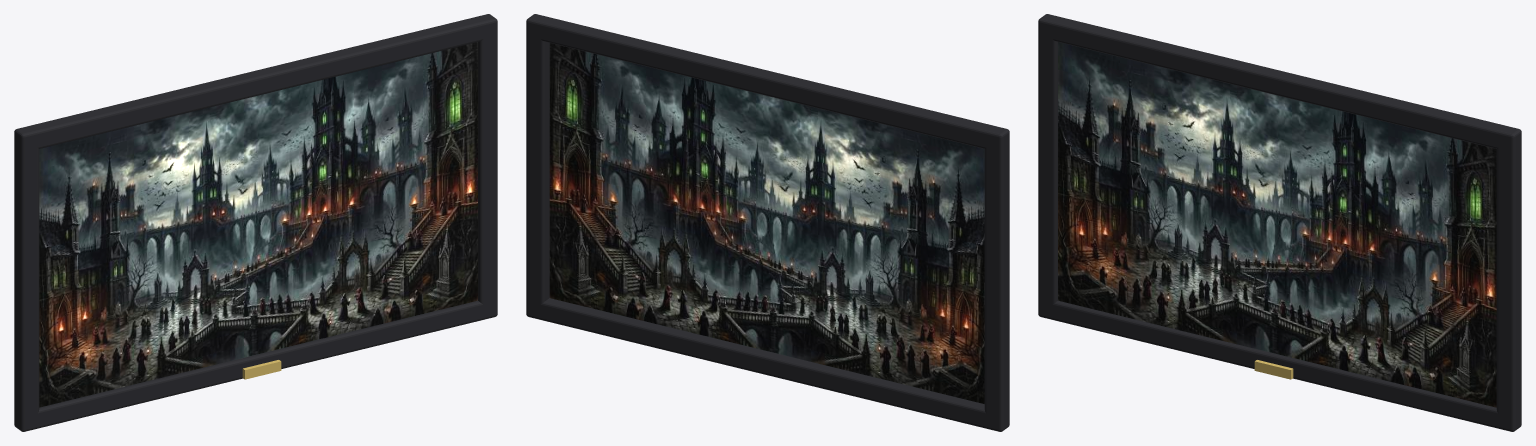
Rendered from art_academy_panorama.glb.
3 views of the same model, side by side, from view 1: azimuth 30°, elevation 25°; view 2: azimuth 150°, elevation 25°; view 3: azimuth 330°, elevation 25° (orthographic).
Parts seen in each view (by area): view 1: GD_art_academy_panorama__m0, GD_art_academy_panorama__m1, GD_art_academy_panorama__m2; view 2: GD_art_academy_panorama__m0, GD_art_academy_panorama__m1; view 3: GD_art_academy_panorama__m0, GD_art_academy_panorama__m1, GD_art_academy_panorama__m2.
Boxes of the visible parts, bbox=[...] form: GD_art_academy_panorama__m0: bbox=[39, 42, 477, 407]; GD_art_academy_panorama__m1: bbox=[14, 14, 497, 431]; GD_art_academy_panorama__m2: bbox=[242, 360, 281, 379]; GD_art_academy_panorama__m0: bbox=[549, 43, 984, 403]; GD_art_academy_panorama__m1: bbox=[526, 14, 1009, 431]; GD_art_academy_panorama__m0: bbox=[1058, 42, 1496, 407]; GD_art_academy_panorama__m1: bbox=[1038, 14, 1521, 431]; GD_art_academy_panorama__m2: bbox=[1254, 360, 1293, 379].
Bounding box in the file's own units: 1.84 × 1.1 × 0.0775.
Materials: 3 (1 with a texture image).
